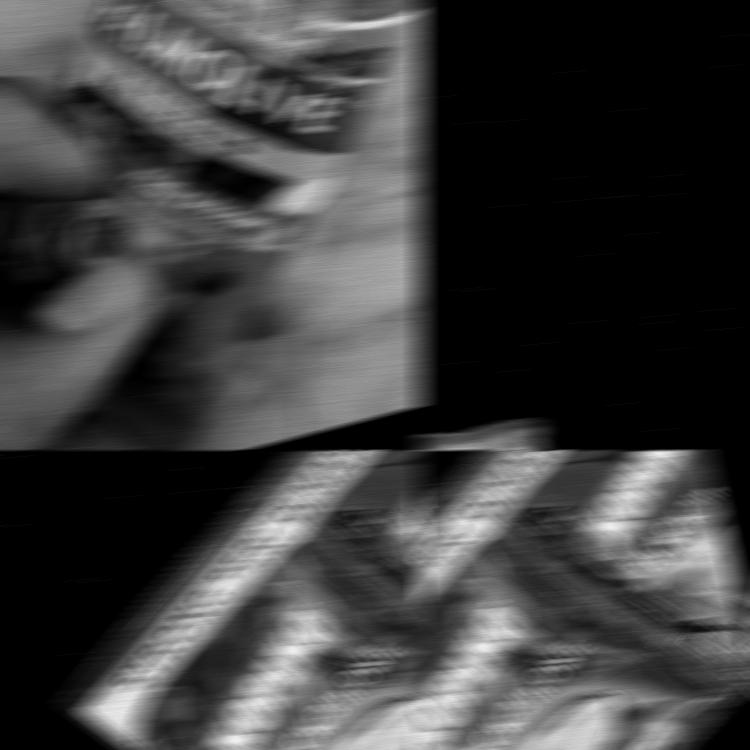kopiko black: (58, 450, 424, 750), (416, 450, 750, 750)
palmolive soap: (0, 0, 424, 450)
